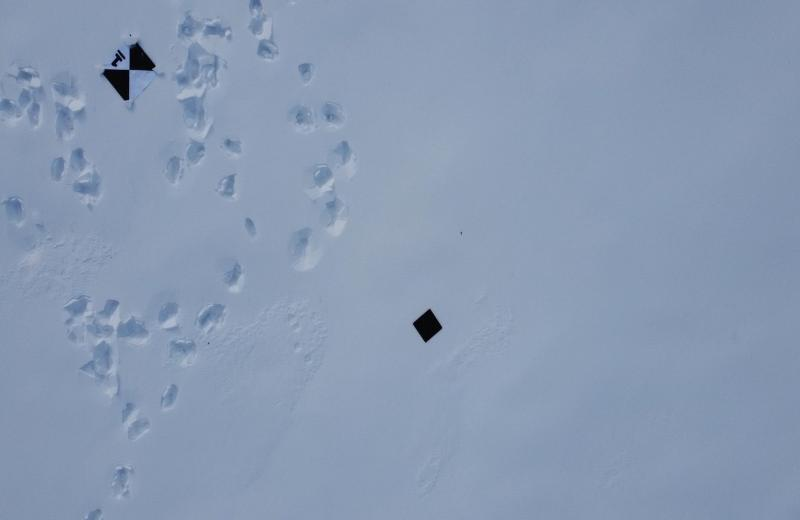Square: (412, 307, 444, 345)
